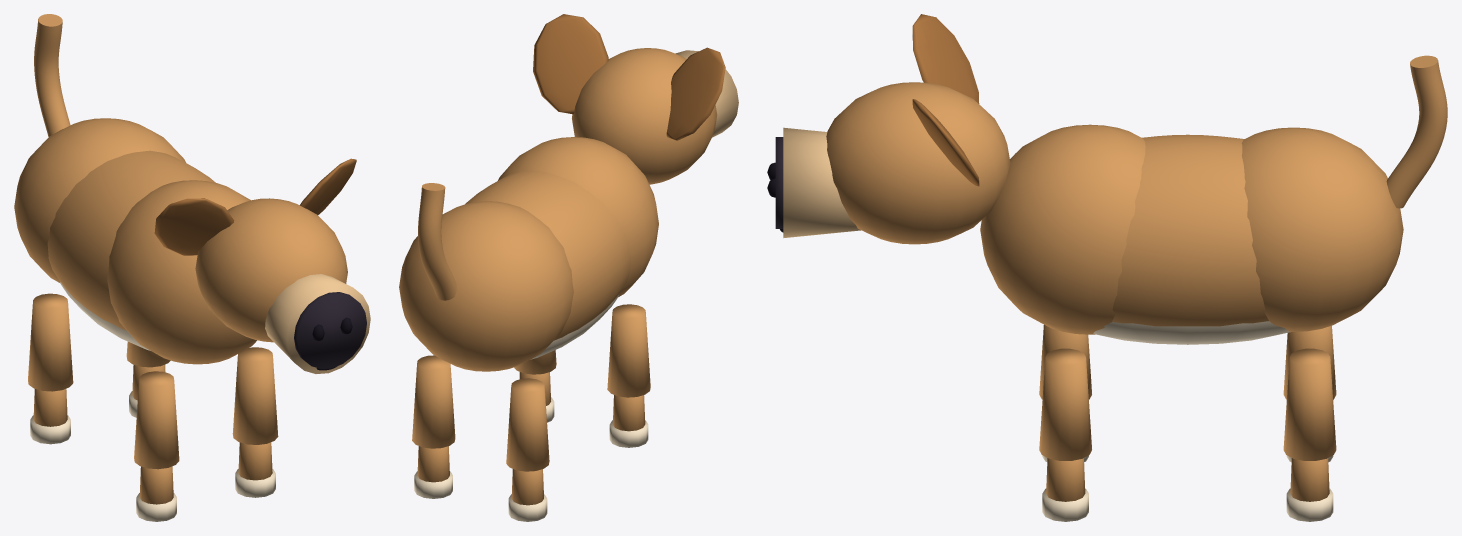
Rendered from dog.glb.
3 views of the same model, side by side, from view 1: azimuth 30°, elevation 25°; view 2: azimuth 150°, elevation 25°; view 3: azimuth 270°, elevation 25° (orthographic). The views are drawn at different scales.
Visible parts, largest first — view 1: body, head, legBR, legFR, legFL, earR, tail, earL, legBL; view 2: body, head, legBR, legFR, legBL, earL, earR, tail, legFL; view 3: body, head, legBL, legFL, tail, earR, earL, legBR, legFR.
Boxes of the visible parts, box(x1,y1,x2,y2) form: body: box(14, 118, 256, 364); head: box(195, 198, 370, 373); legBR: box(28, 293, 73, 444); legFR: box(134, 371, 179, 521); legFL: box(232, 347, 278, 497); earR: box(154, 198, 234, 255); tail: box(34, 14, 70, 136); earL: box(300, 158, 356, 214); legBL: box(126, 342, 170, 417); body: box(399, 137, 658, 371); head: box(572, 48, 738, 184); legBR: box(506, 378, 549, 521); legFR: box(607, 304, 650, 447); legBL: box(412, 355, 455, 498); earL: box(533, 14, 608, 114); earR: box(666, 47, 725, 140); tail: box(418, 183, 456, 300); legFL: box(514, 350, 556, 422); body: box(980, 124, 1403, 344); head: box(767, 82, 1010, 244); legBL: box(1283, 348, 1336, 521); legFL: box(1039, 348, 1091, 521); tail: box(1386, 55, 1447, 208); earR: box(912, 14, 979, 103); earL: box(912, 99, 979, 186); legBR: box(1283, 325, 1336, 462); legFR: box(1039, 324, 1091, 462).
Size of the model in its own units: 0.6431 by 1.15 by 1.67.
